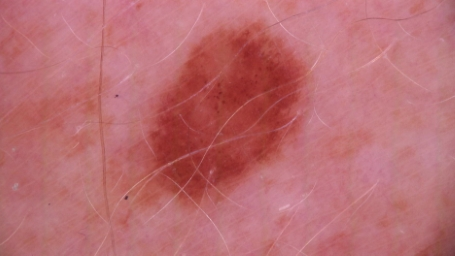melanoma: (152, 29, 302, 194)
